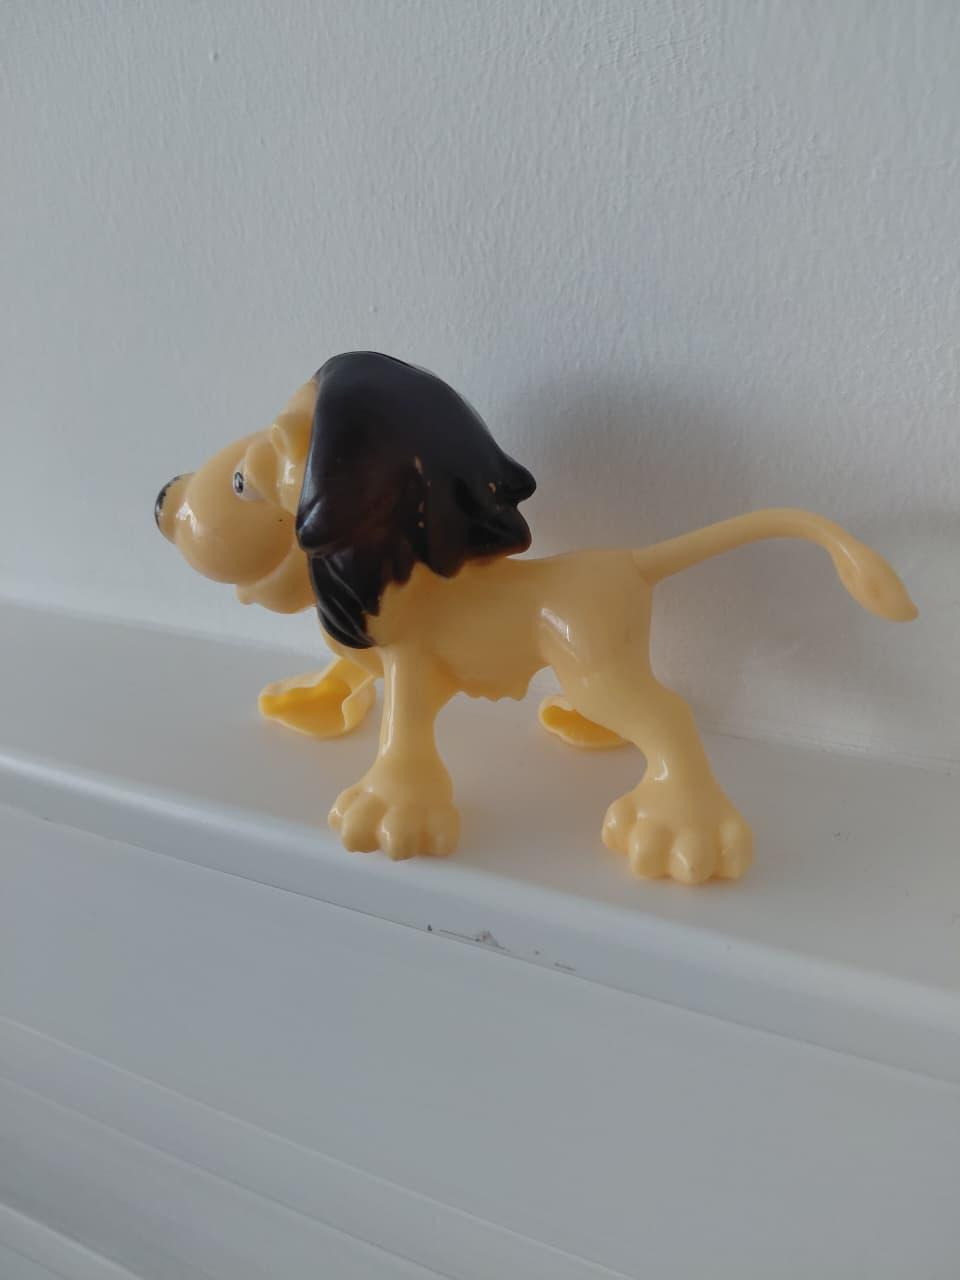lion: (125, 336, 930, 927)
